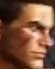kevin: (5, 0, 54, 68)
